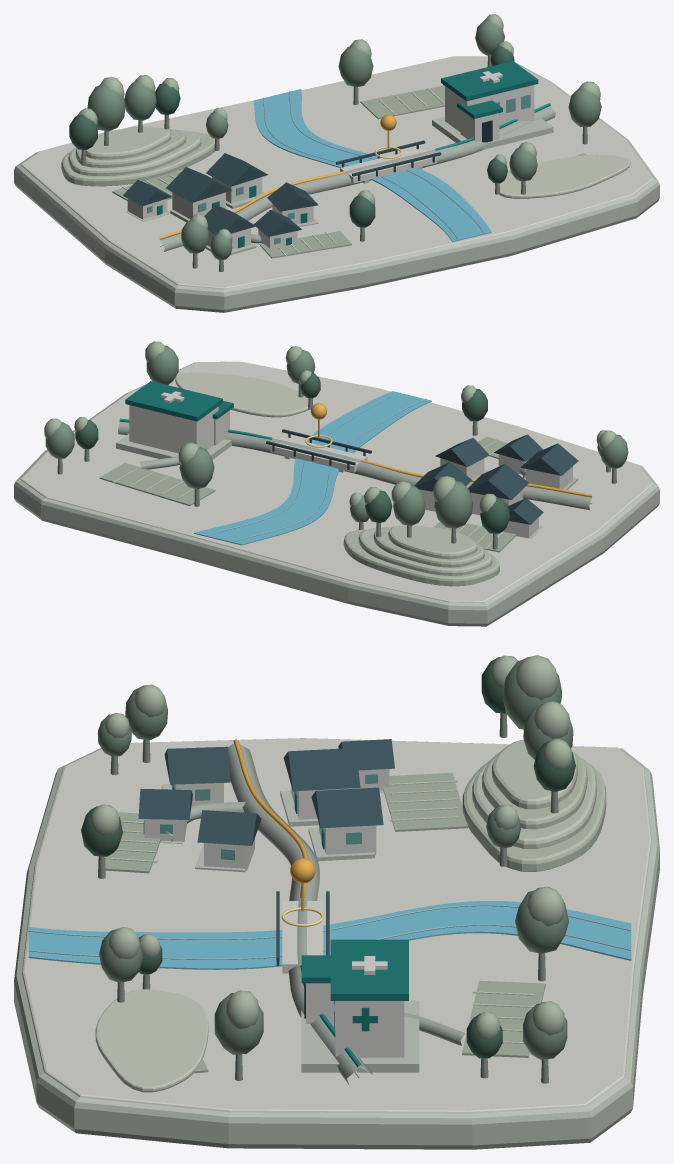
Rendered from terrain-v1.glb.
The picture shows the model from 3 angles, top to bottom: view 1: azimuth 30°, elevation 25°; view 2: azimuth 150°, elevation 25°; view 3: azimuth 270°, elevation 25°; orthographic projection. The views are drawn at different scales.
Parts seen in each view (by area): view 1: LandscapeAndCommunity, River, ScenarioConnection; view 2: LandscapeAndCommunity, River, ScenarioConnection; view 3: LandscapeAndCommunity, River, ScenarioConnection, SampleObservationMarker.
Boxes of the visible parts, bbox=[...] form: LandscapeAndCommunity: bbox=[14, 14, 659, 312]; River: bbox=[253, 89, 491, 242]; ScenarioConnection: bbox=[159, 103, 550, 239]; LandscapeAndCommunity: bbox=[14, 341, 659, 626]; River: bbox=[194, 391, 431, 545]; ScenarioConnection: bbox=[119, 418, 592, 497]; LandscapeAndCommunity: bbox=[14, 655, 659, 1149]; River: bbox=[28, 901, 631, 969]; ScenarioConnection: bbox=[233, 739, 361, 1068]; SampleObservationMarker: bbox=[281, 858, 323, 926].
Bounding box in the file's own units: 14.16 × 3.06 × 10.13.
